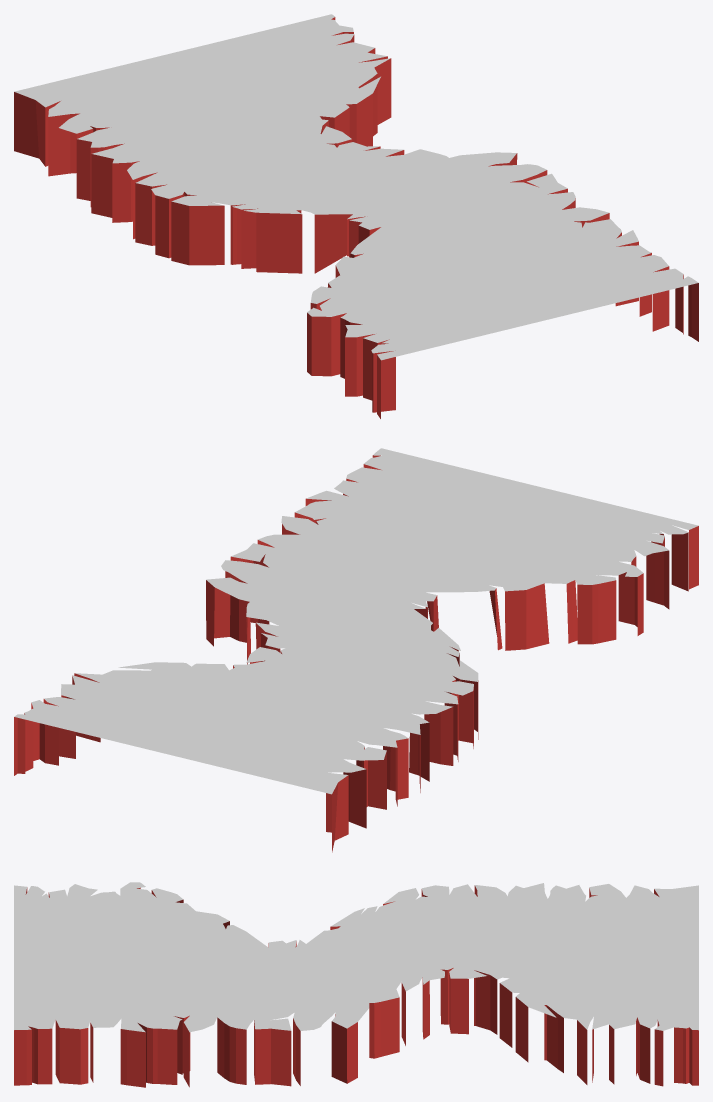
File: newice3 1.fbx
3 renders of one model, top to bottom at view 1: azimuth 30°, elevation 25°; view 2: azimuth 150°, elevation 25°; view 3: azimuth 270°, elevation 25°, orthographic. The views are drawn at different scales.
Visible parts, largest first — view 1: Plane.008; view 2: Plane.008; view 3: Plane.008.
Boxes of the visible parts, x1,y1,x2,y2 form: Plane.008: [14, 14, 698, 418]; Plane.008: [14, 448, 698, 852]; Plane.008: [14, 882, 698, 1087].
Size of the model in its own units: 2905 by 500 by 5600.
